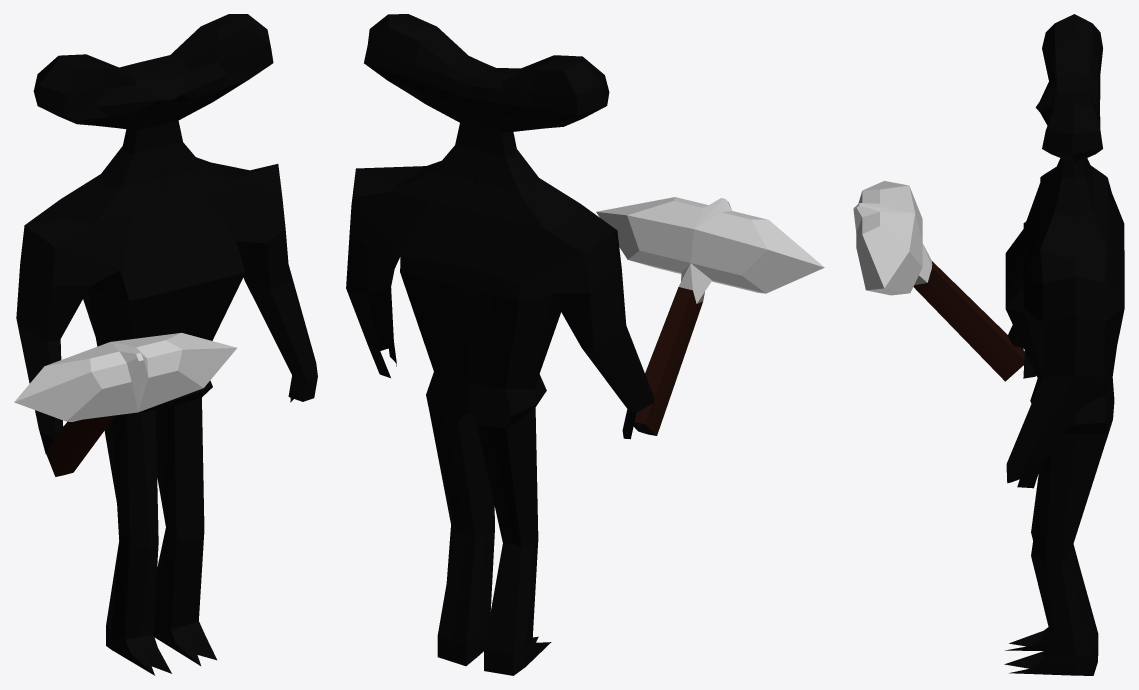
Rendered from Giant.obj.
3 renders of one model, left to right at view 1: azimuth 30°, elevation 25°; view 2: azimuth 150°, elevation 25°; view 3: azimuth 270°, elevation 25°, orthographic. The views are drawn at different scales.
Visible parts, largest first — view 1: Cube; view 2: Cube; view 3: Cube.
Boxes of the visible parts, bbox=[...] form: Cube: bbox=[14, 14, 317, 675]; Cube: bbox=[346, 14, 824, 675]; Cube: bbox=[853, 14, 1124, 675].
Bounding box in the file's own units: 1.05 × 1.62 × 0.667.
